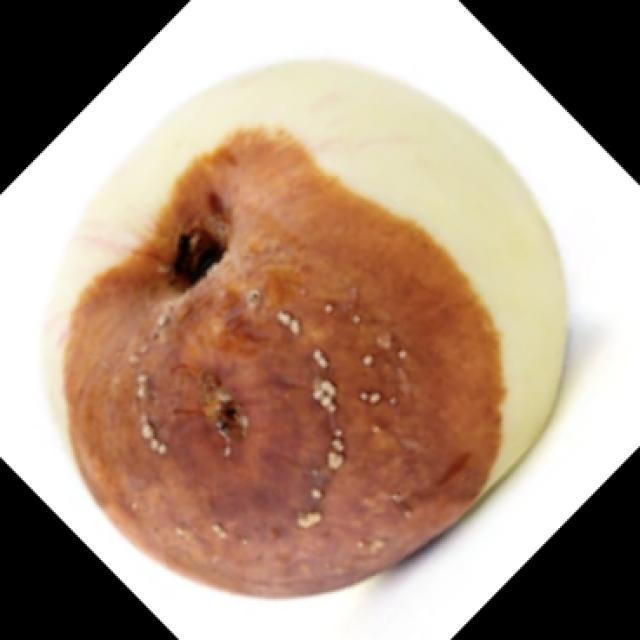Rotten: (100, 65, 563, 583)
